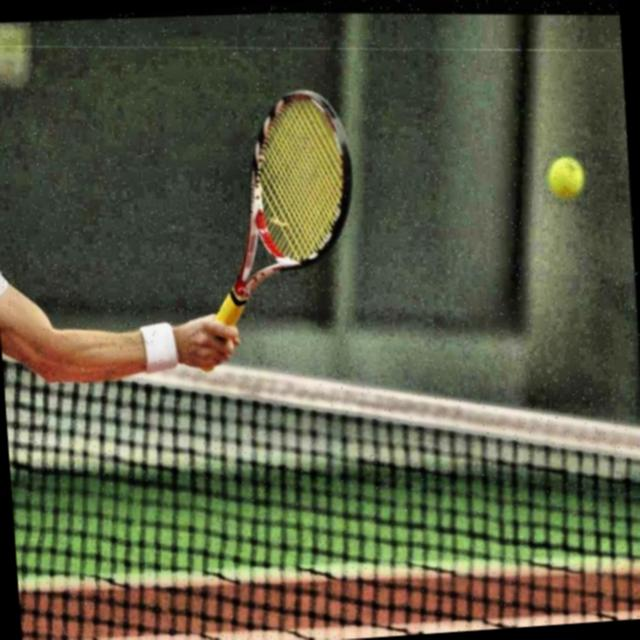tennis-ball: (540, 142, 590, 202)
